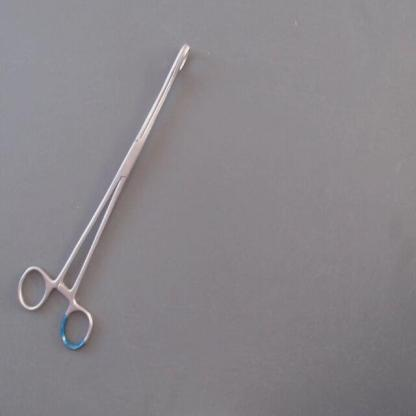Sponge Forceps: (12, 32, 202, 357)
